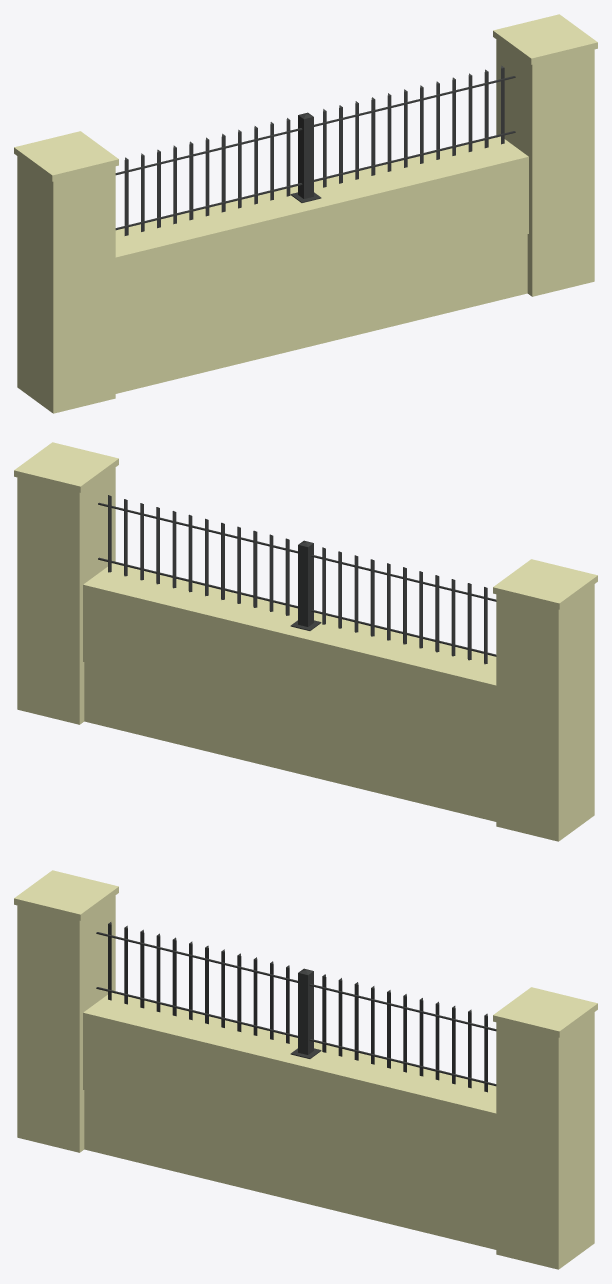
The model's file is Concrete Fence.fbx.
The picture shows the model from 3 angles, top to bottom: view 1: azimuth 30°, elevation 25°; view 2: azimuth 150°, elevation 25°; view 3: azimuth 330°, elevation 25°; orthographic projection.
Parts seen in each view (by area): view 1: fence.002, pillar2, pillar, fence; view 2: fence.002, pillar2, pillar, fence; view 3: fence.002, pillar, pillar2, fence.
Part boxes in pixels (<box>): fence.002: <box>115,136,528,393</box>; pillar2: <box>14,131,118,413</box>; pillar: <box>493,14,597,296</box>; fence: <box>115,65,515,235</box>; fence.002: <box>83,563,496,821</box>; pillar2: <box>493,559,597,841</box>; pillar: <box>14,442,118,724</box>; fence: <box>98,495,496,664</box>; fence.002: <box>83,992,496,1249</box>; pillar: <box>493,987,597,1269</box>; pillar2: <box>14,870,118,1152</box>; fence: <box>96,922,496,1092</box>.
Bounding box in the file's own units: 112 × 914 × 384.
